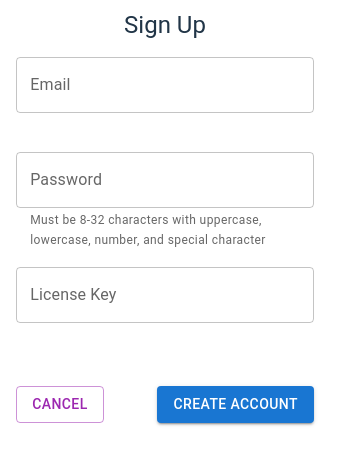
Test: SignUp › submits no license key
Type "user@example.com" into the field labelled "Email" at (165,85), box [16,57,314,113]
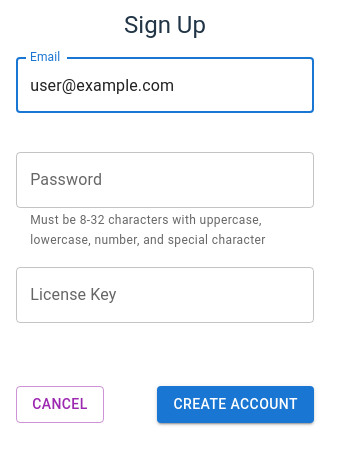
Type "Pass1234!" into the password field labelled "Password" at (165,180), box [16,152,314,208]
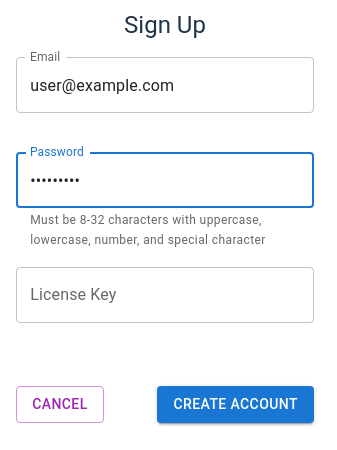
Click the button "Create Account" at (236,404), box [158,386,314,423]
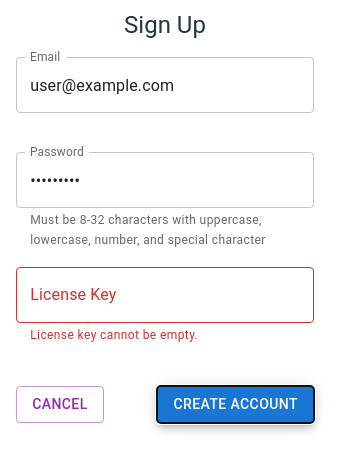
expect the field labelled "License Key" is shown: met, box [16,267,314,323]
expect the text "License key cannot be empty." is shown: met, box [30,328,198,342]
